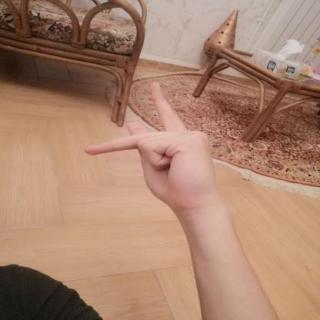DHAA: (76, 76, 230, 218)
